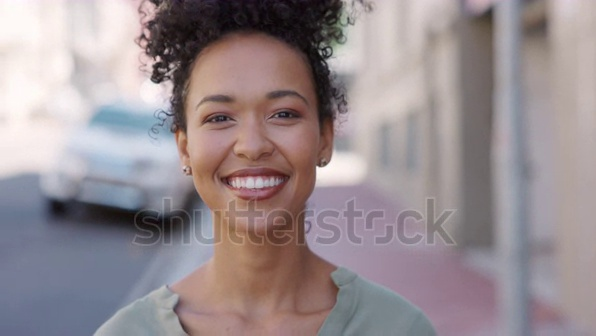No Mask: (187, 156, 326, 231)
